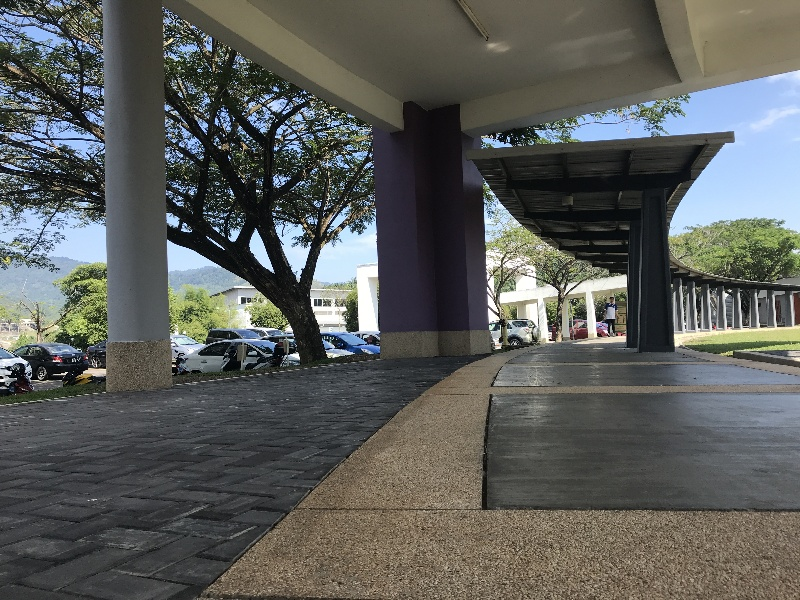Block D Pillar 5: (8, 4, 794, 552)
pillar: (348, 93, 506, 374), (79, 3, 188, 400), (616, 185, 696, 367)
